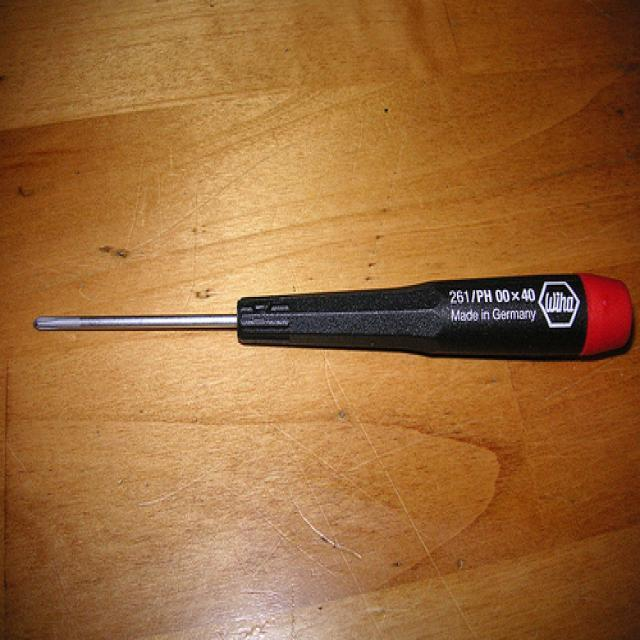screwdriver: (27, 252, 640, 378)
